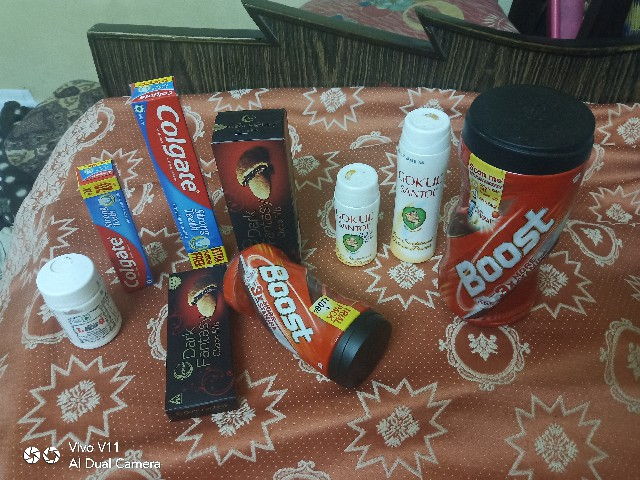boost big: (440, 78, 608, 334)
boost small: (222, 230, 401, 381)
colgatetoothpaste big: (123, 62, 226, 272)
colgatetoothpaste small: (67, 143, 150, 291)
darkfantasy big: (202, 102, 306, 259)
darkfantasy small: (161, 260, 238, 435)
gokulsantol big: (386, 99, 448, 285)
gokulsantol small: (329, 150, 380, 275)
lgasafoetidapowder small: (30, 244, 119, 359)
